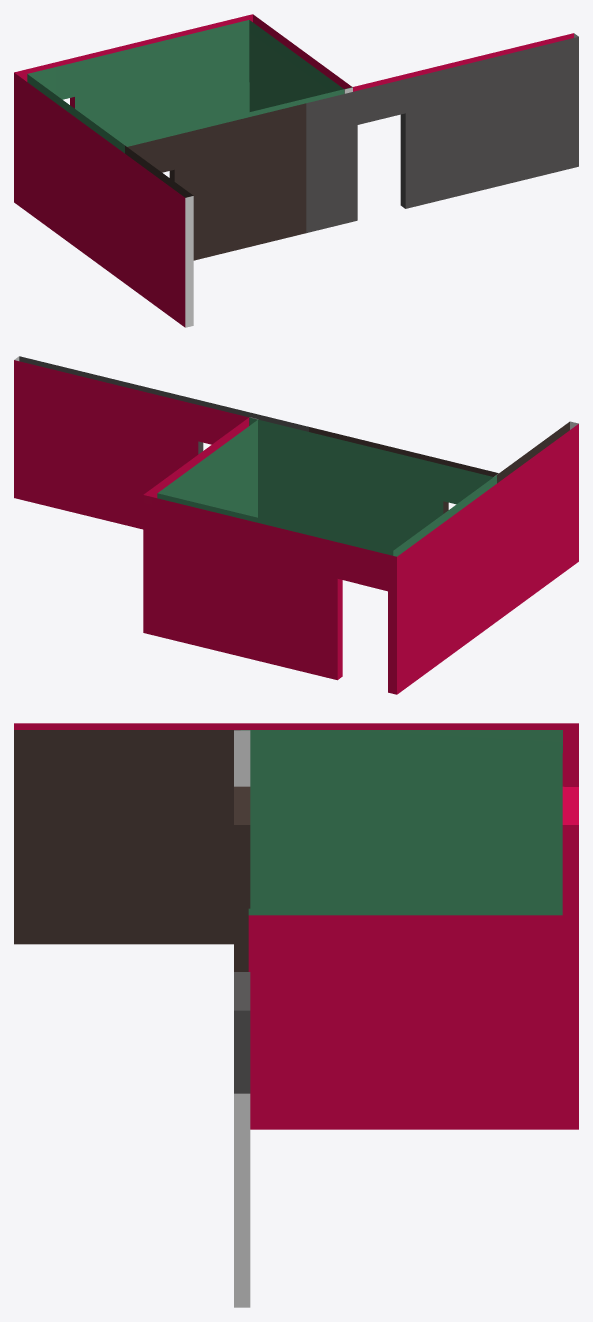
The model's file is Pared 3.fbx.
The picture shows the model from 3 angles, top to bottom: view 1: azimuth 30°, elevation 25°; view 2: azimuth 150°, elevation 25°; view 3: azimuth 270°, elevation 25°; orthographic projection. The views are drawn at different scales.
Parts seen in each view (by area): view 1: Pared_3; view 2: Pared_3; view 3: Pared_3.
Part boxes in pixels (x1,y1,x2,y2): Pared_3: (14, 14, 578, 327); Pared_3: (14, 356, 578, 694); Pared_3: (14, 723, 578, 1307).
Bounding box in the file's own units: 1111 × 300 × 716.
